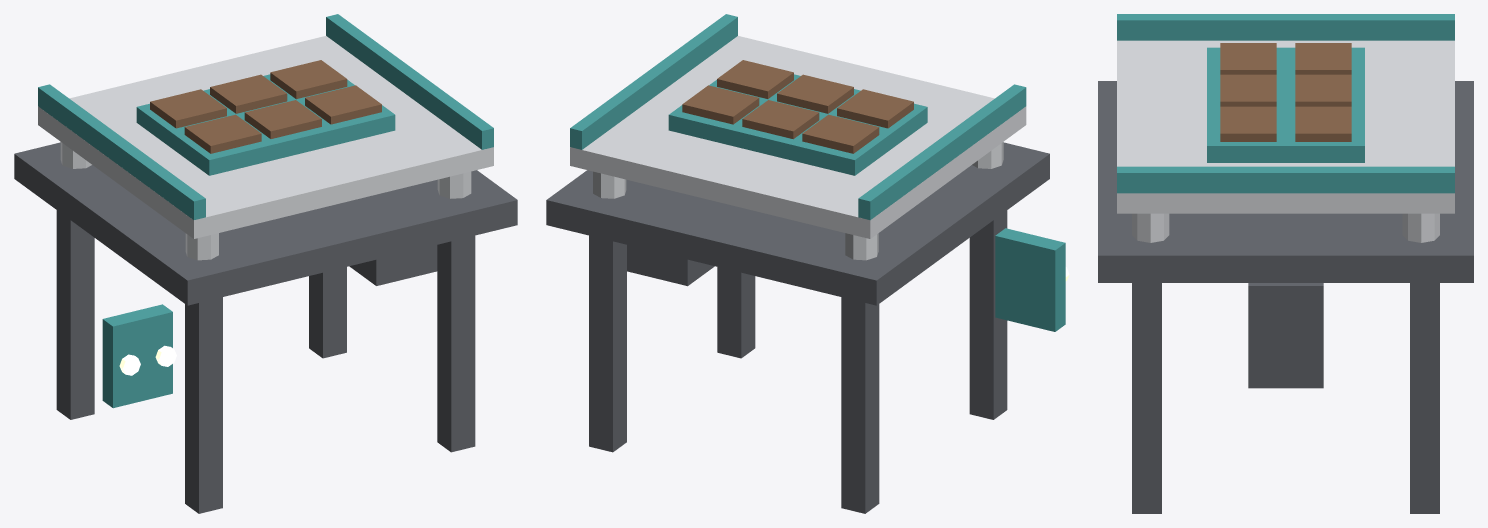
Rendered from chocolate-and-confectionery-factory-vibrating-table-bb1163cb__36771.glb.
3 views of the same model, side by side, from view 1: azimuth 30°, elevation 25°; view 2: azimuth 150°, elevation 25°; view 3: azimuth 270°, elevation 25° (orthographic). The views are drawn at different scales.
Parts seen in each view (by area): view 1: vibrating-table, deck-vibrate/steel, deck-vibrate/teal, deck-vibrate/choc; view 2: vibrating-table, deck-vibrate/steel, deck-vibrate/teal, deck-vibrate/choc; view 3: vibrating-table, deck-vibrate/steel, deck-vibrate/teal, deck-vibrate/choc.
Part boxes in pixels (left/top/right/bottom): vibrating-table: left=14, top=142, right=517, bottom=513; deck-vibrate/steel: left=38, top=36, right=493, bottom=238; deck-vibrate/teal: left=38, top=14, right=493, bottom=219; deck-vibrate/choc: left=150, top=60, right=381, bottom=153; vibrating-table: left=546, top=142, right=1069, bottom=513; deck-vibrate/steel: left=570, top=36, right=1026, bottom=238; deck-vibrate/teal: left=570, top=14, right=1026, bottom=220; deck-vibrate/choc: left=682, top=60, right=913, bottom=153; vibrating-table: left=1098, top=81, right=1473, bottom=513; deck-vibrate/steel: left=1117, top=40, right=1454, bottom=213; deck-vibrate/teal: left=1117, top=14, right=1454, bottom=193; deck-vibrate/choc: left=1220, top=43, right=1351, bottom=141.
Bounding box in the file's own units: 1.27 × 1.04 × 1.
